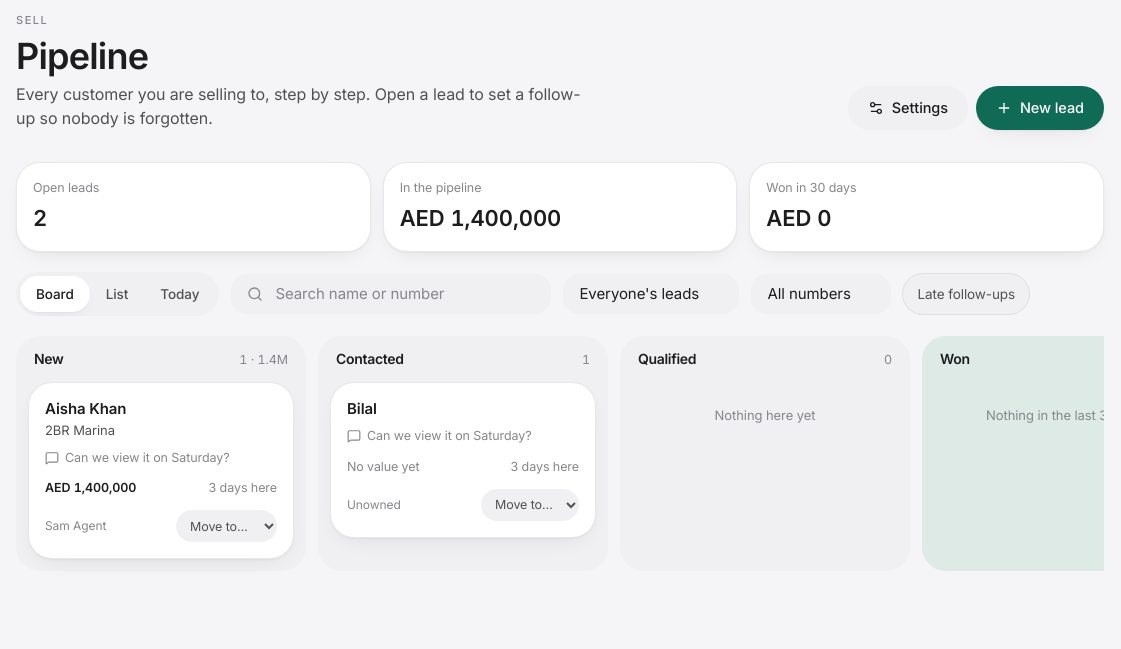
Test: the board › shows why a move failed
Step 1. Select "Contacted" in the dropdown named "Move Aisha Khan to another step" → (226, 526), box [176,510,277,542]
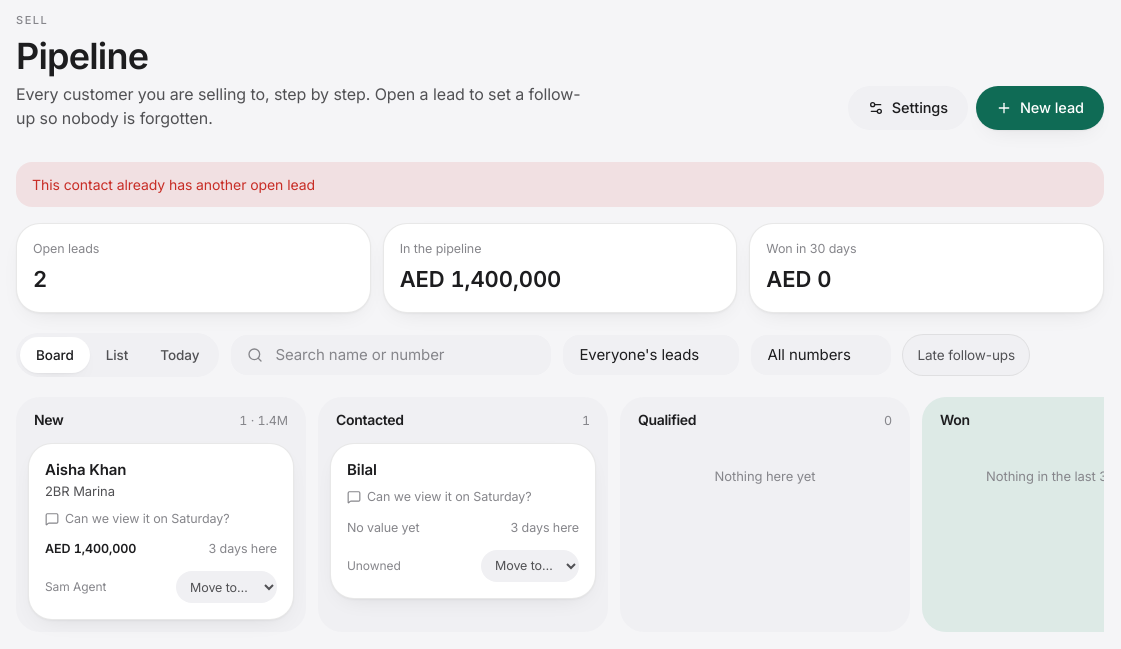
Now the message shows "already has another open lead", box [32,176,315,193]
